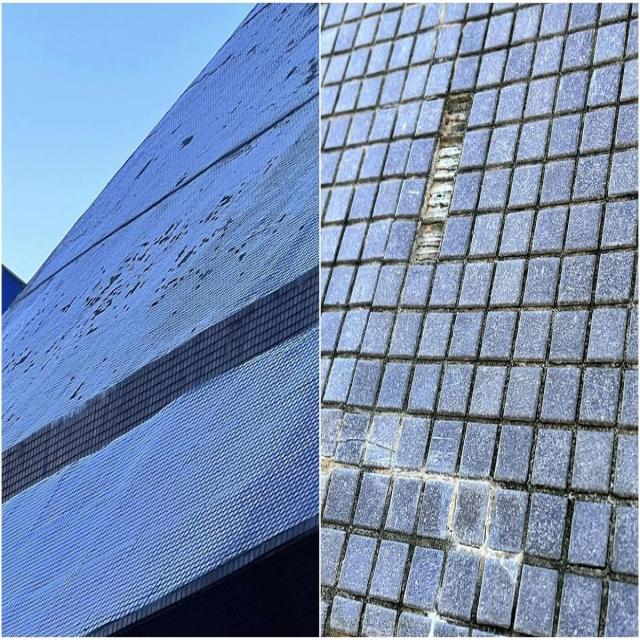Crack: (369, 441, 396, 456), (338, 439, 366, 443)
tile: (409, 92, 475, 264)
